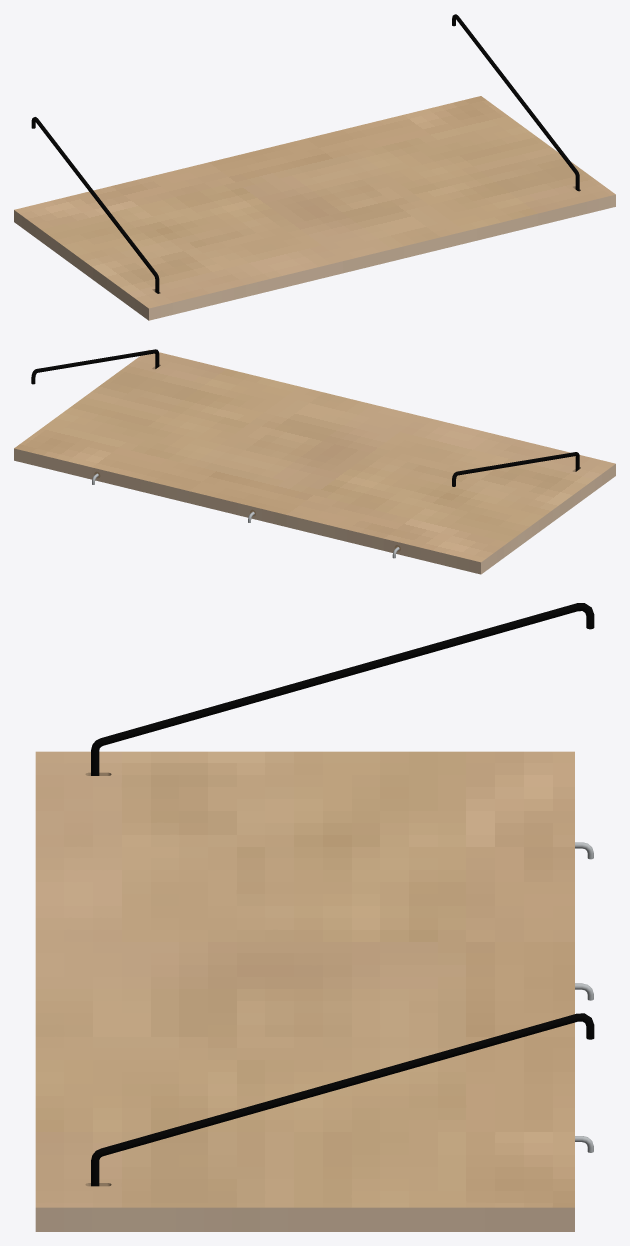
The model's file is board60x30_t2.glb.
3 renders of one model, top to bottom at view 1: azimuth 30°, elevation 25°; view 2: azimuth 150°, elevation 25°; view 3: azimuth 270°, elevation 25°, orthographic. The views are drawn at different scales.
Parts seen in each view (by area): view 1: Geom3D (×4); view 2: Geom3D (×4); view 3: Geom3D (×4).
Part boxes in pixels (x1,y1,x2,y2): Geom3D (×4): (14,14,615,320); Geom3D (×4): (14,349,615,574); Geom3D (×4): (35,603,594,1231).
Size of the model in its own units: 0.6 by 0.1206 by 0.3108.
4 materials, 3 textured.
